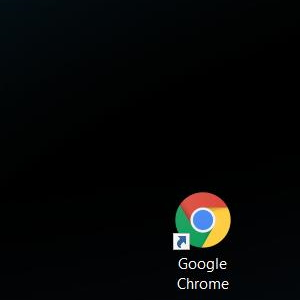chrome: (171, 192, 231, 250)
